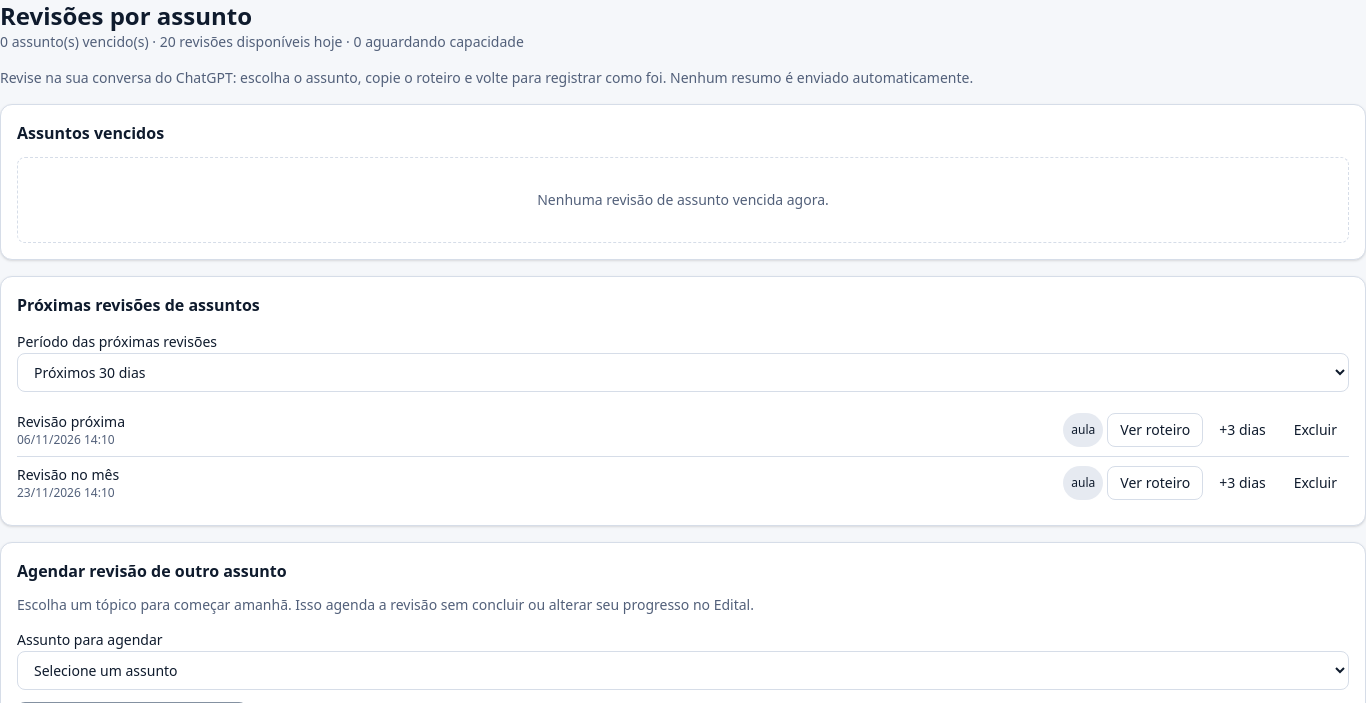
Test case: Revisões: aulas › filtra datas reais dos próximos 7/30 dias e mantém as demais em todas agendadas
This screenshot has width=1366, height=703.
Check: the text "Revisão próxima" is shown, box [17, 412, 125, 432]
Check: the text "Revisão no mês" is shown, box [17, 465, 119, 485]
Select "Próximos 7 dias" in the dropdown labelled "Período das próximas revisões" at (683, 372), box [17, 353, 1349, 392]
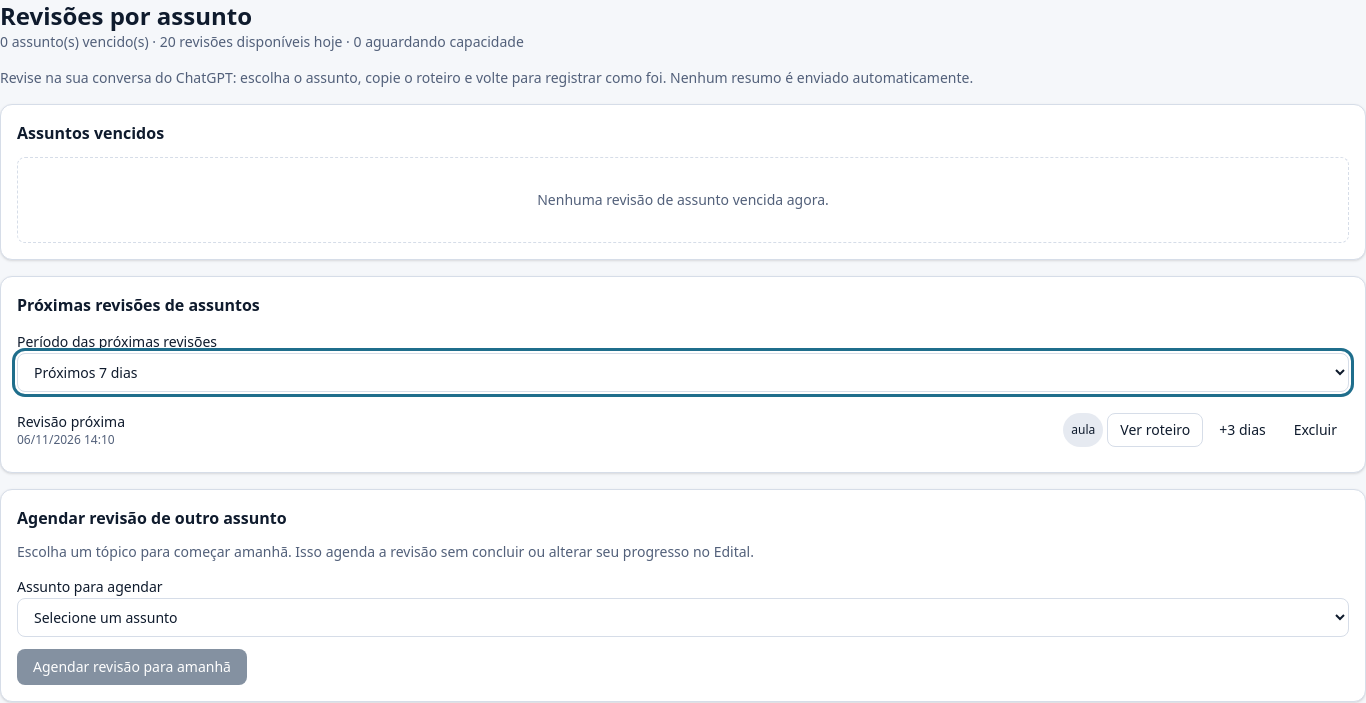
Check: the text "Revisão no mês" is gone
Select "Todas agendadas" in the dropdown labelled "Período das próximas revisões" at (683, 372), box [17, 353, 1349, 392]
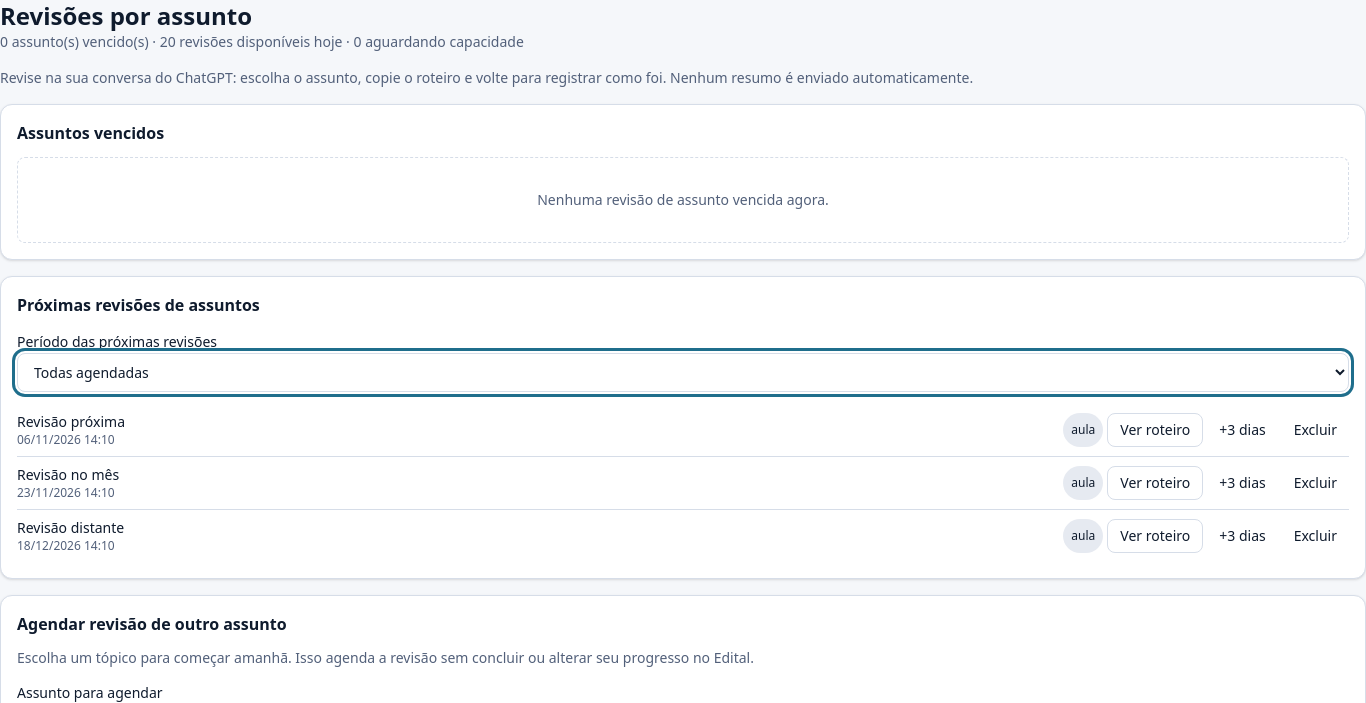
Check: the text "Revisão distante" is shown, box [17, 518, 124, 538]
